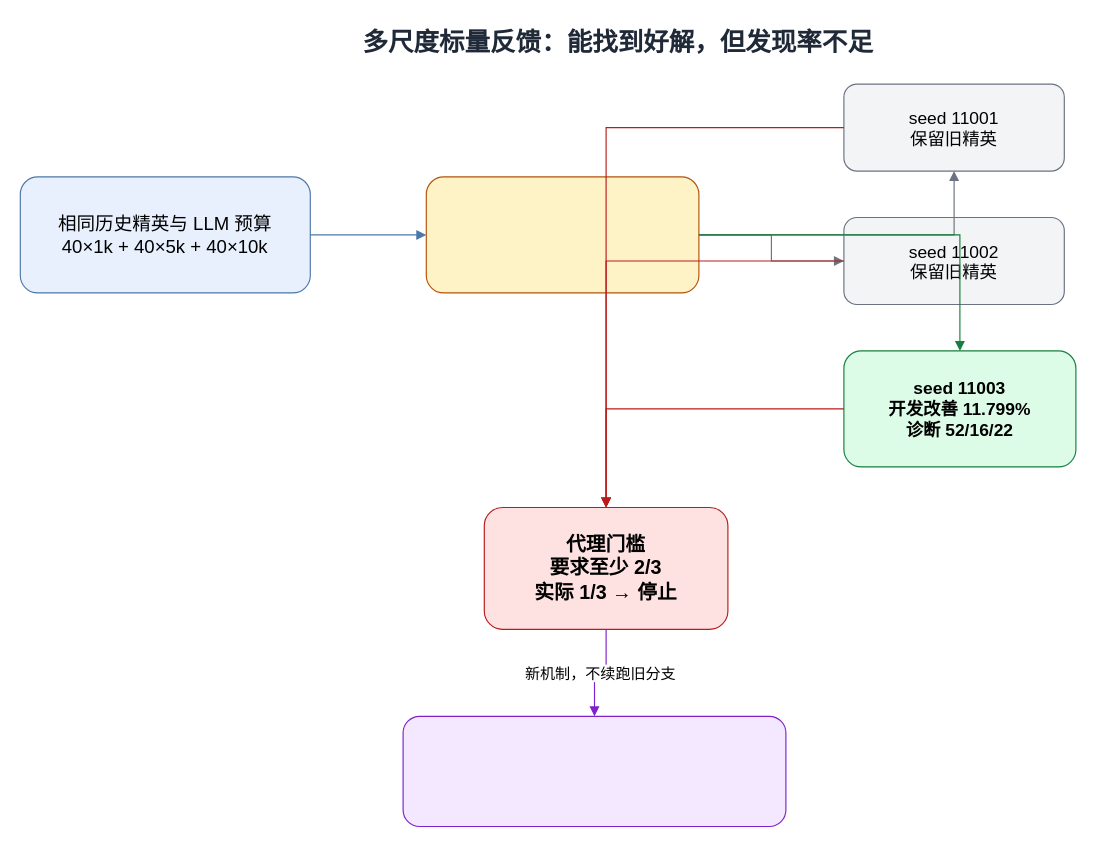
The diagram is 1096 pixels wide and 847 high, and some of its shapes have lost their labels. Each missing label, with the centre of its shape:
"当前反馈 三个尺度压成一个目标值 不知道最差尺度" belongs at point (562, 234).
"新反馈编译器 分别告诉模型 1k / 5k / 10k gap 指出最差尺度再修改" belongs at point (594, 770).
